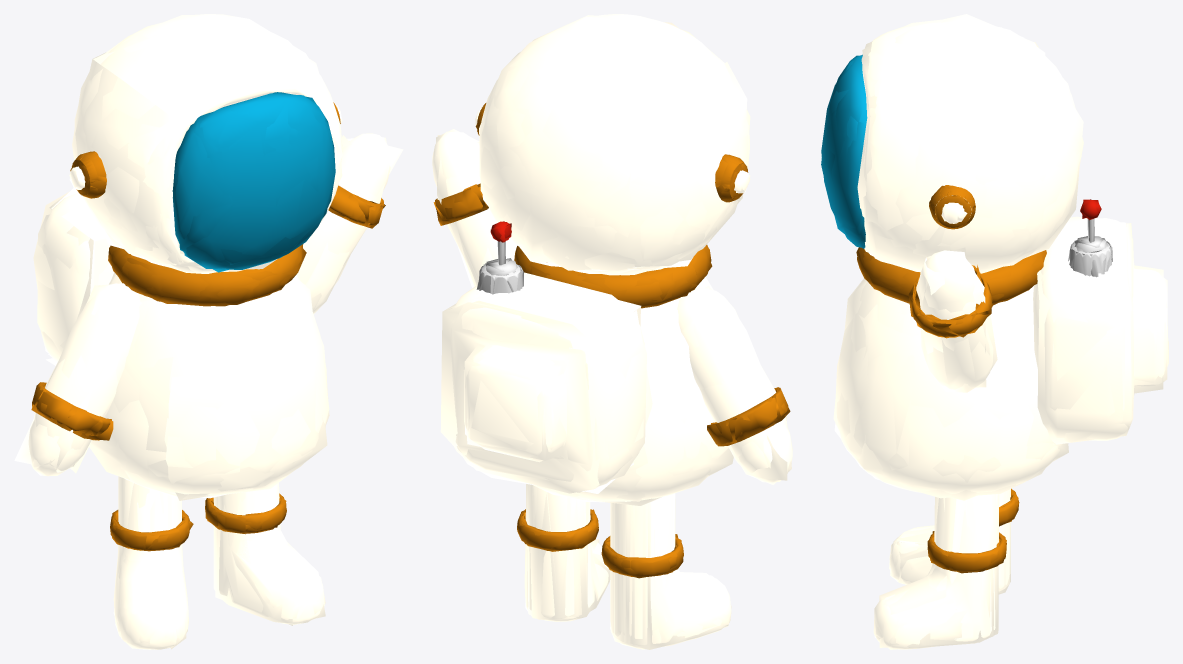
File: cute_astronaut.glb
3 views of the same model, side by side, from view 1: azimuth 30°, elevation 25°; view 2: azimuth 150°, elevation 25°; view 3: azimuth 270°, elevation 25° (orthographic). The views are drawn at different scales.
Visible parts, largest first — view 1: Astronauta.gles.002, Astronauta.gles.003, Astronauta.gles.004; view 2: Astronauta.gles.002, Astronauta.gles.003, Astronauta.gles.004; view 3: Astronauta.gles.002, Astronauta.gles.003, Astronauta.gles.004.
Part boxes in pixels (x1,y1,x2,y2): Astronauta.gles.002: [28, 14, 390, 649]; Astronauta.gles.003: [32, 14, 389, 649]; Astronauta.gles.004: [14, 20, 403, 649]; Astronauta.gles.002: [432, 14, 792, 648]; Astronauta.gles.003: [436, 15, 791, 649]; Astronauta.gles.004: [433, 16, 790, 649]; Astronauta.gles.002: [821, 22, 1168, 649]; Astronauta.gles.003: [821, 19, 1167, 649]; Astronauta.gles.004: [821, 14, 1163, 647].
Size of the model in its own units: 4.73 by 7.22 by 3.92.
